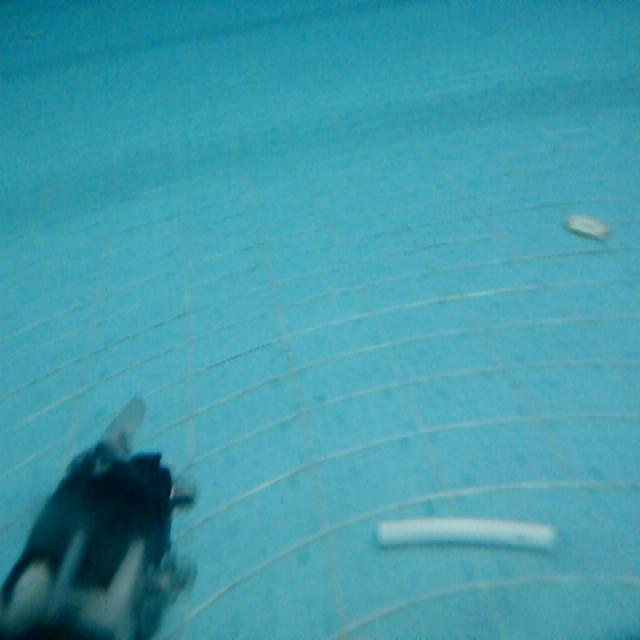Cube: (373, 511, 558, 556)
